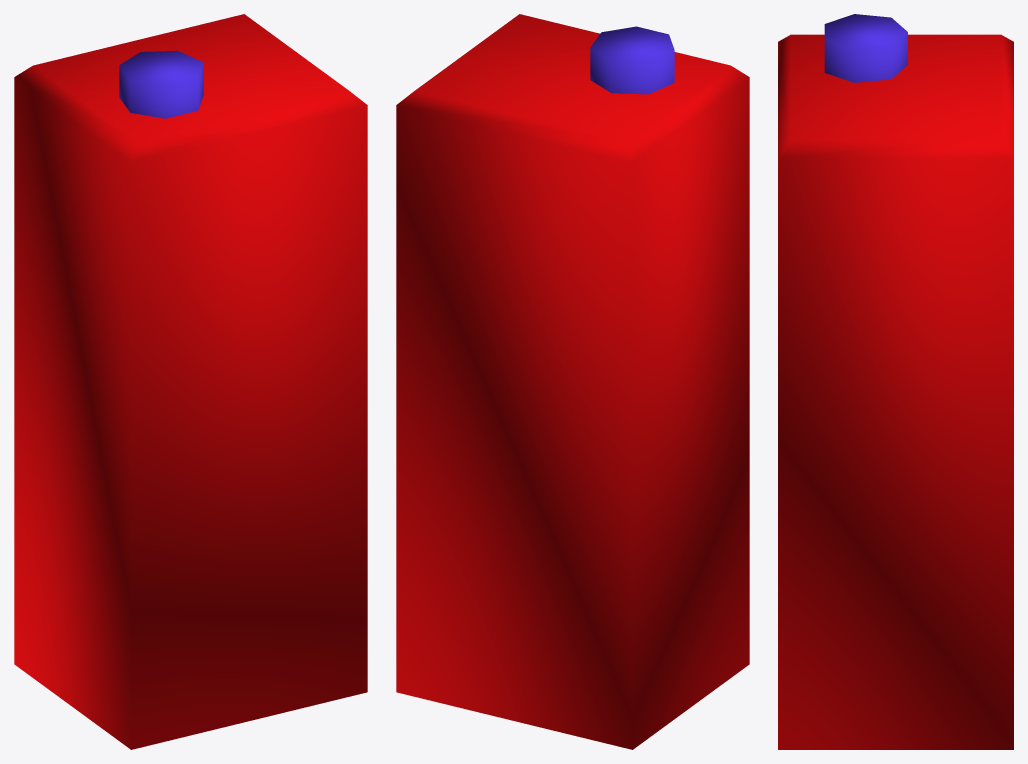
File: succo_ace.fbx
The picture shows the model from 3 angles, left to right: view 1: azimuth 30°, elevation 25°; view 2: azimuth 150°, elevation 25°; view 3: azimuth 270°, elevation 25°; orthographic projection.
Parts seen in each view (by area): view 1: ace; view 2: ace; view 3: ace.
Part boxes in pixels (x1=…): ace: x1=14, y1=14, x2=367, y2=749; ace: x1=396, y1=14, x2=749, y2=749; ace: x1=778, y1=14, x2=1013, y2=749.
Bounding box in the file's own units: 82.46 × 211 × 70.7.
